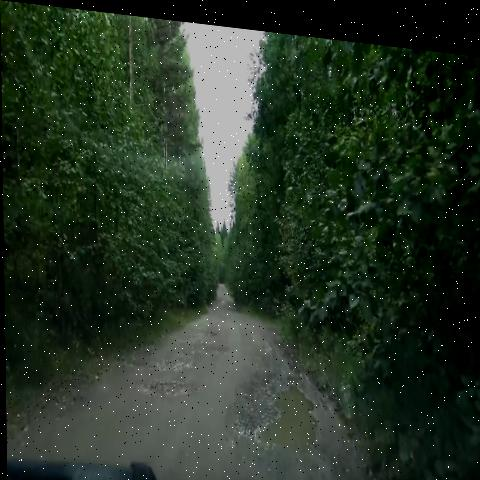pothole: (235, 358, 326, 459), (137, 367, 198, 408), (154, 337, 193, 380), (191, 328, 232, 362), (194, 317, 221, 343), (229, 295, 243, 318)
